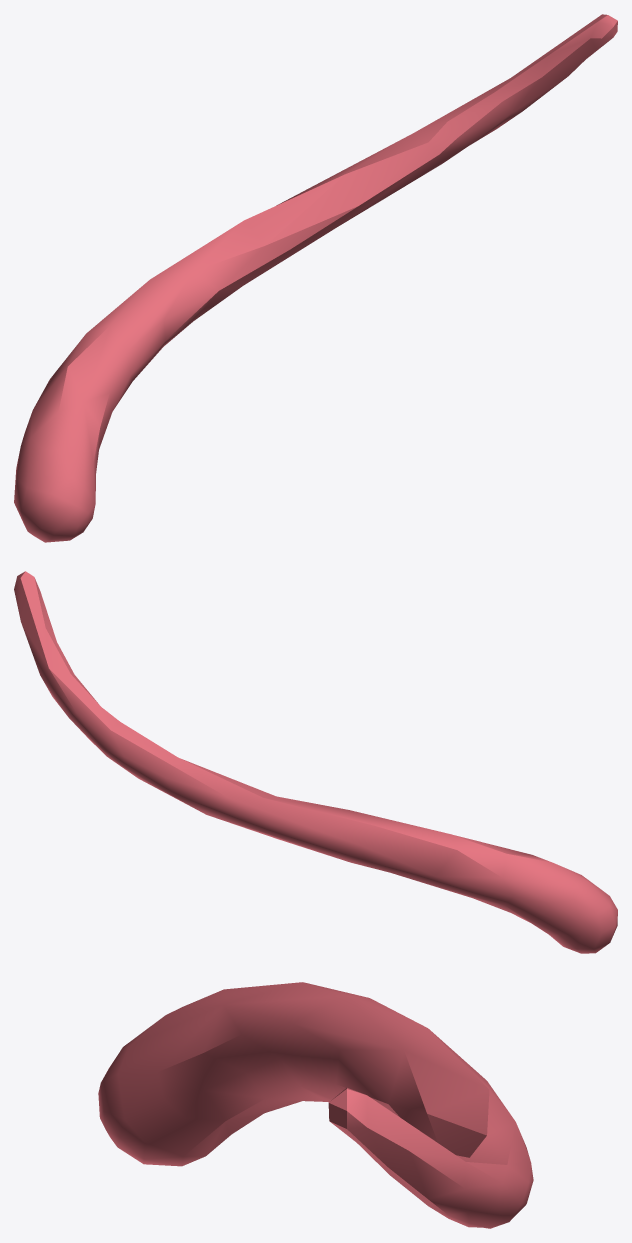
Rendered from fma75898_fj5094.glb.
3 renders of one model, top to bottom at view 1: azimuth 30°, elevation 25°; view 2: azimuth 150°, elevation 25°; view 3: azimuth 270°, elevation 25°, orthographic. The views are drawn at different scales.
Parts seen in each view (by area): view 1: FMA75898_FJ5094; view 2: FMA75898_FJ5094; view 3: FMA75898_FJ5094.
Boxes of the visible parts, box(x1,y1,x2,y2) form: FMA75898_FJ5094: box(14, 14, 617, 542); FMA75898_FJ5094: box(14, 571, 617, 953); FMA75898_FJ5094: box(98, 982, 533, 1228).
Bounding box in the file's own units: 0.0125 × 0.00621 × 0.00427.
